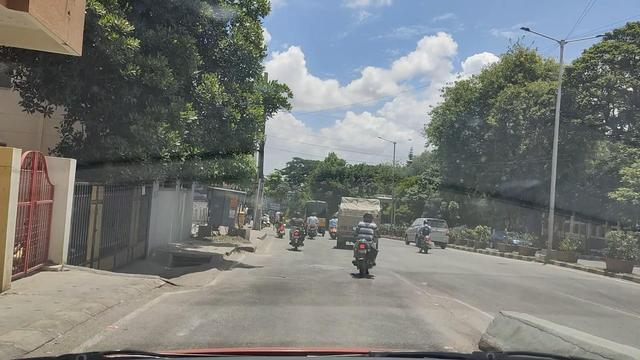HMV: (329, 191, 384, 249), (303, 196, 330, 239)
